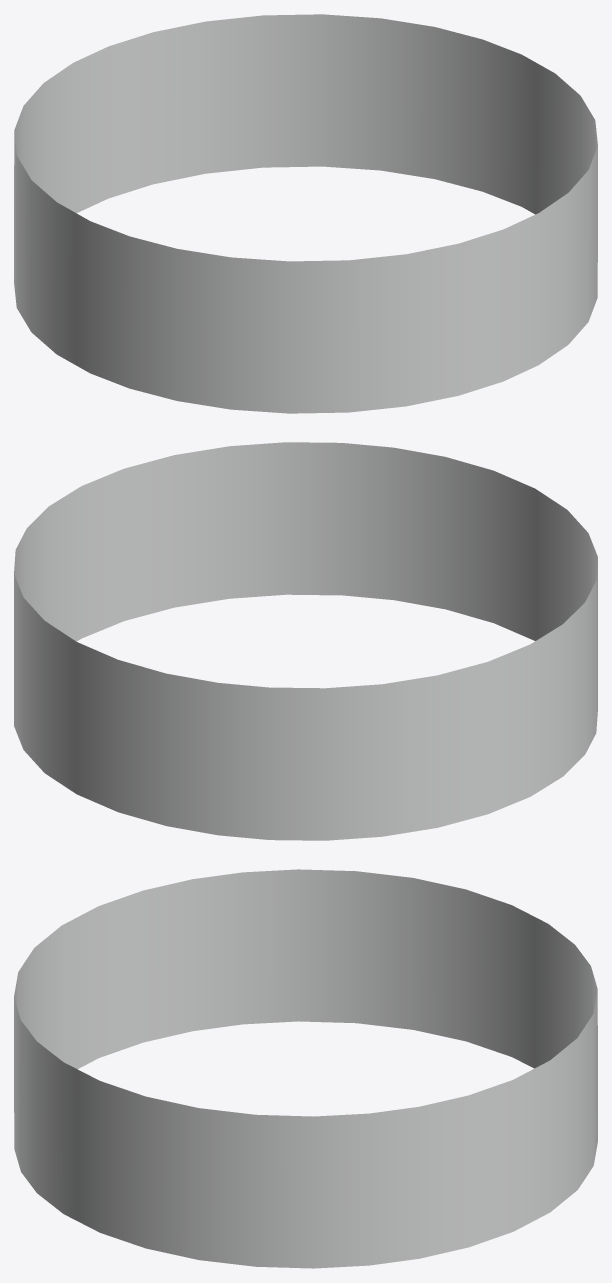
Rendered from Panaroma.fbx.
3 views of the same model, one above another, from view 1: azimuth 30°, elevation 25°; view 2: azimuth 150°, elevation 25°; view 3: azimuth 270°, elevation 25° (orthographic).
Parts seen in each view (by area): view 1: GlassFrames; view 2: GlassFrames; view 3: GlassFrames.
Part boxes in pixels (bbox=[...]): GlassFrames: bbox=[14, 14, 597, 413]; GlassFrames: bbox=[14, 442, 597, 840]; GlassFrames: bbox=[14, 869, 597, 1268].
Bounding box in the file's own units: 153 × 153 × 44.16.
Materials: 1 (1 with a texture image).
